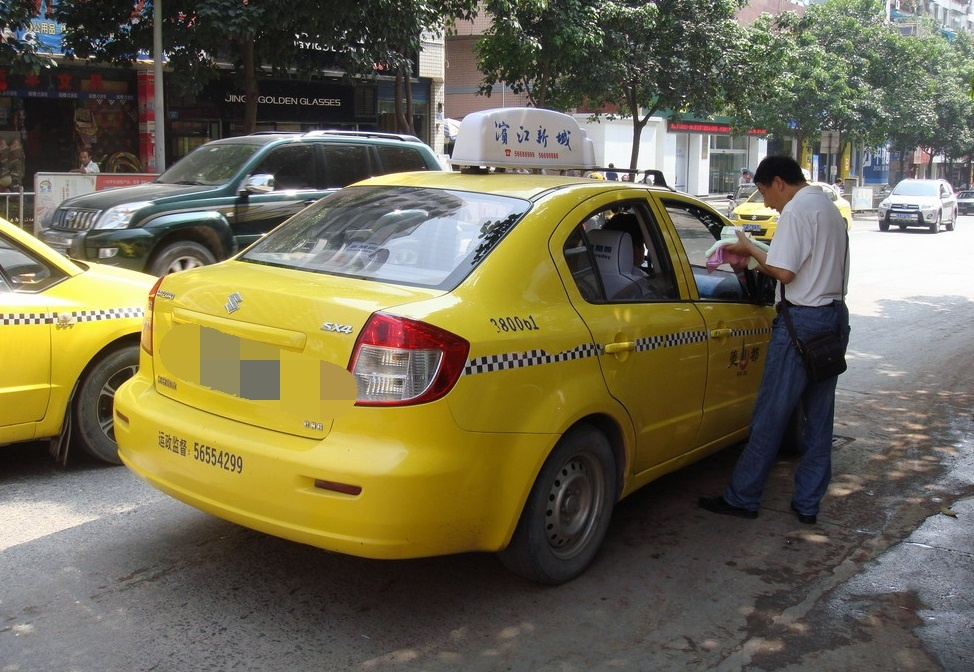taxi: (115, 120, 854, 571)
